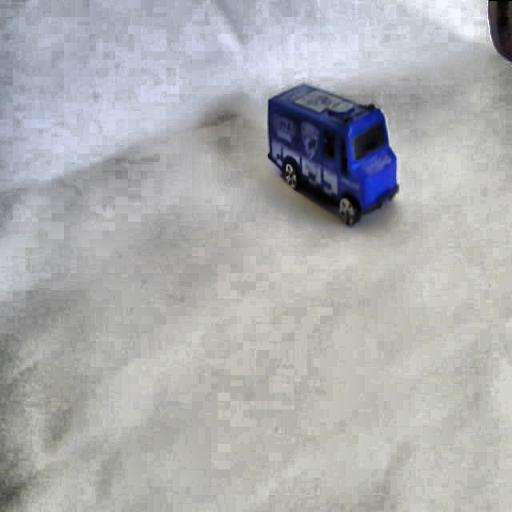police car: (267, 84, 400, 222)
